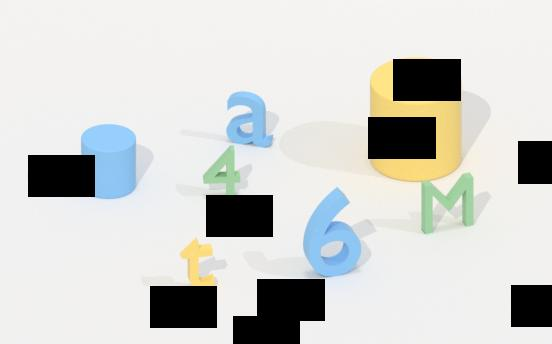4: (197, 143, 249, 201)
6: (296, 191, 365, 278)
M-hoa: (417, 168, 479, 235)
a: (225, 90, 275, 149)
t: (175, 235, 222, 294)
tru: (365, 58, 465, 180), (78, 124, 138, 202)
